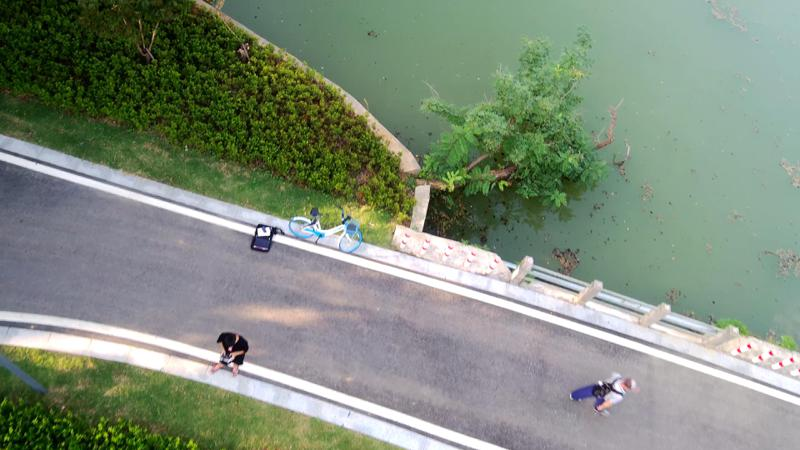passerby: (568, 370, 643, 418), (208, 328, 250, 378)
